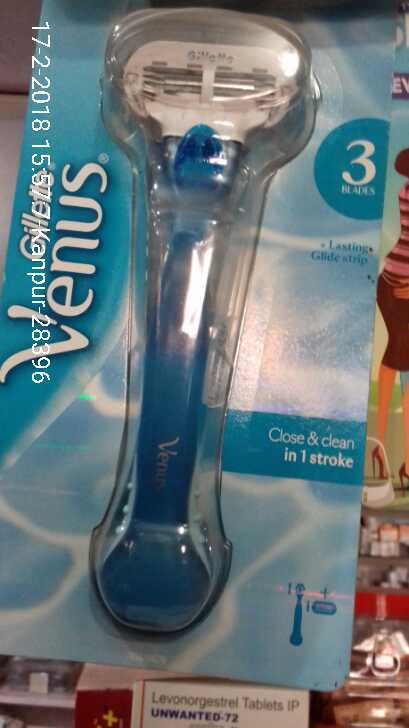venus: (85, 31, 314, 643)
